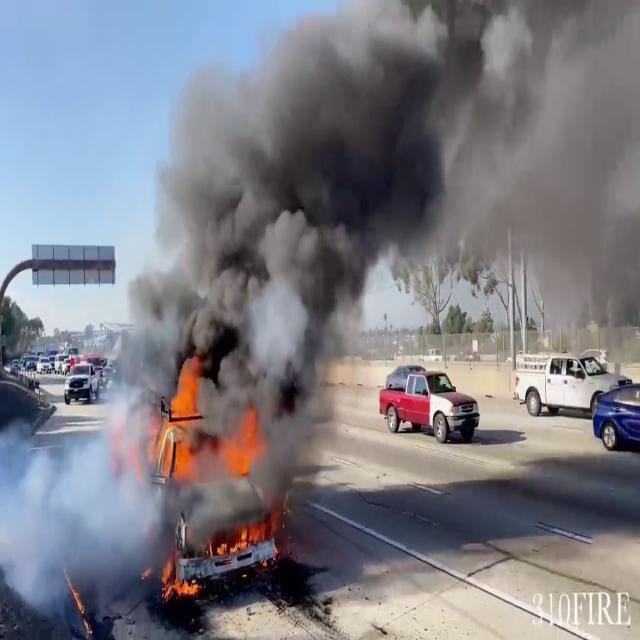Fire: (153, 352, 209, 484), (216, 405, 266, 482)
Smoke: (113, 1, 640, 566), (445, 0, 640, 356), (0, 383, 164, 611)
